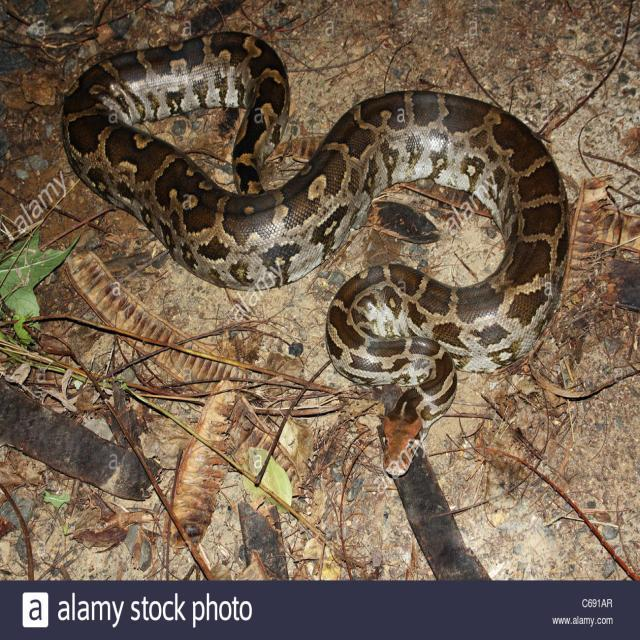Snake: (60, 29, 571, 478)
